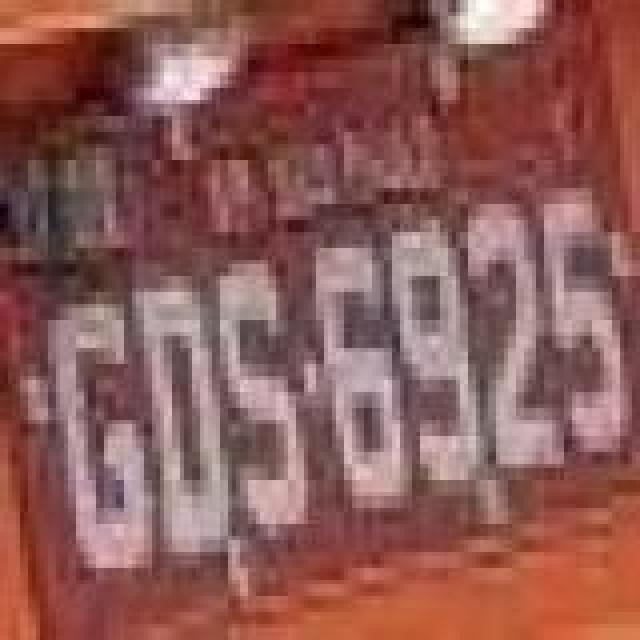2: (464, 198, 568, 474)
5: (536, 188, 632, 452)
6: (312, 236, 408, 500)
9: (384, 224, 480, 488)
D: (130, 286, 238, 562)
G: (42, 298, 158, 574)
S: (216, 262, 312, 538)
